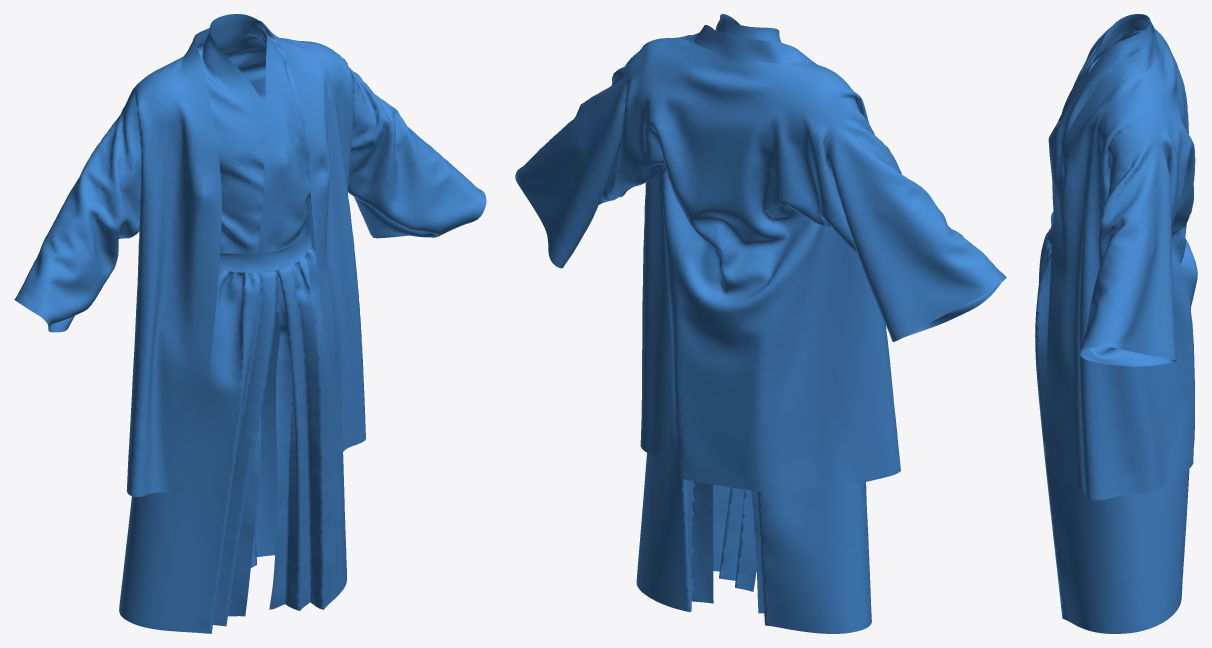
File: Kimono_Fixed.fbx
3 renders of one model, left to right at view 1: azimuth 30°, elevation 25°; view 2: azimuth 150°, elevation 25°; view 3: azimuth 270°, elevation 25°, orthographic. The views are drawn at different scales.
Parts seen in each view (by area): view 1: Object_3, Object_4, Object_2, Object_5; view 2: Object_3, Object_4, Object_2; view 3: Object_3, Object_4, Object_2, Object_5.
Part boxes in pixels (left/top/right/bottom): Object_3: left=14, top=36, right=486, bottom=496; Object_4: left=119, top=247, right=346, bottom=633; Object_2: left=180, top=14, right=336, bottom=495; Object_5: left=195, top=31, right=310, bottom=311; Object_3: left=515, top=35, right=1006, bottom=491; Object_4: left=636, top=453, right=871, bottom=633; Object_2: left=692, top=14, right=815, bottom=63; Object_3: left=1059, top=27, right=1197, bottom=500; Object_4: left=1035, top=228, right=1189, bottom=633; Object_2: left=1047, top=14, right=1158, bottom=482; Object_5: left=1049, top=30, right=1153, bottom=232.
Bounding box in the file's own units: 51.19 × 60.66 × 15.65.
